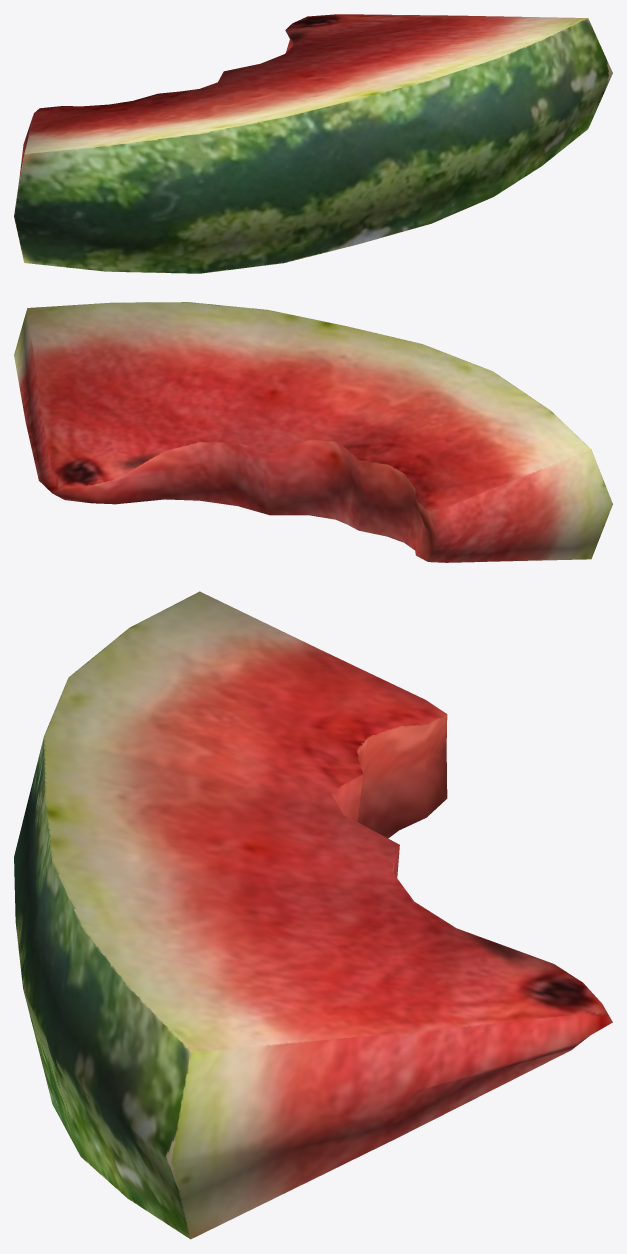
Rendered from buah_semongko.fbx.
3 renders of one model, top to bottom at view 1: azimuth 30°, elevation 25°; view 2: azimuth 150°, elevation 25°; view 3: azimuth 270°, elevation 25°, orthographic. The views are drawn at different scales.
Parts seen in each view (by area): view 1: semongko; view 2: semongko; view 3: semongko.
Boxes of the visible parts, bbox=[...] form: semongko: bbox=[14, 14, 612, 273]; semongko: bbox=[14, 302, 612, 562]; semongko: bbox=[14, 591, 612, 1239].
Bounding box in the file's own units: 94.86 × 22.18 × 48.9.
Materials: 1 (1 with a texture image).
